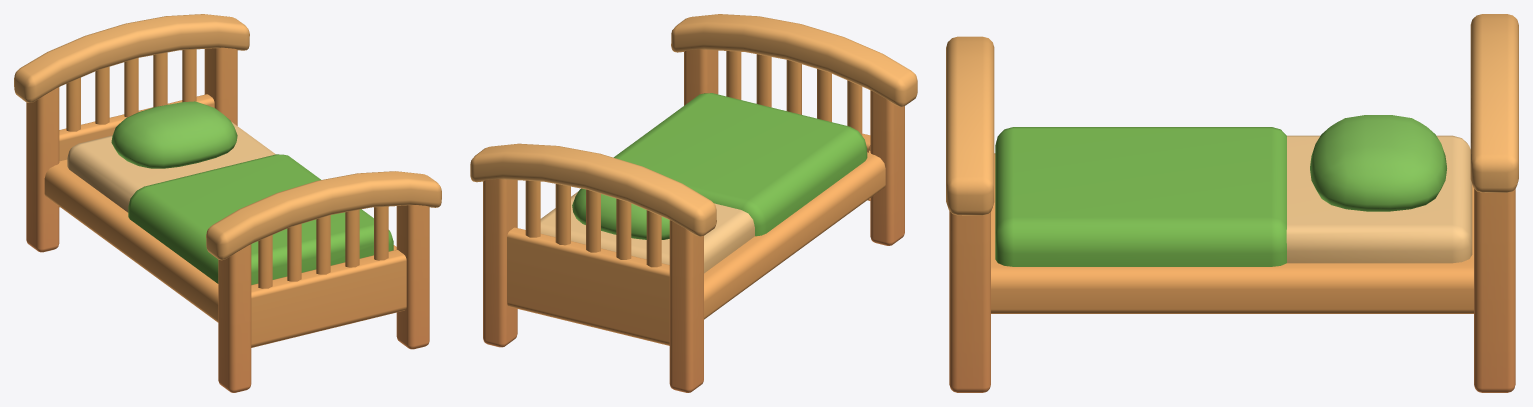
Rendered from Bed_20.glb.
3 renders of one model, left to right at view 1: azimuth 30°, elevation 25°; view 2: azimuth 150°, elevation 25°; view 3: azimuth 270°, elevation 25°, orthographic. The views are drawn at different scales.
Parts seen in each view (by area): view 1: Bed_20; view 2: Bed_20; view 3: Bed_20.
Part boxes in pixels (left/top/right/bottom): Bed_20: left=14, top=14, right=441, bottom=392; Bed_20: left=470, top=14, right=917, bottom=392; Bed_20: left=946, top=14, right=1518, bottom=392.
Bounding box in the file's own units: 1.06 × 0.8959 × 1.72.
1 material, 1 textured.
